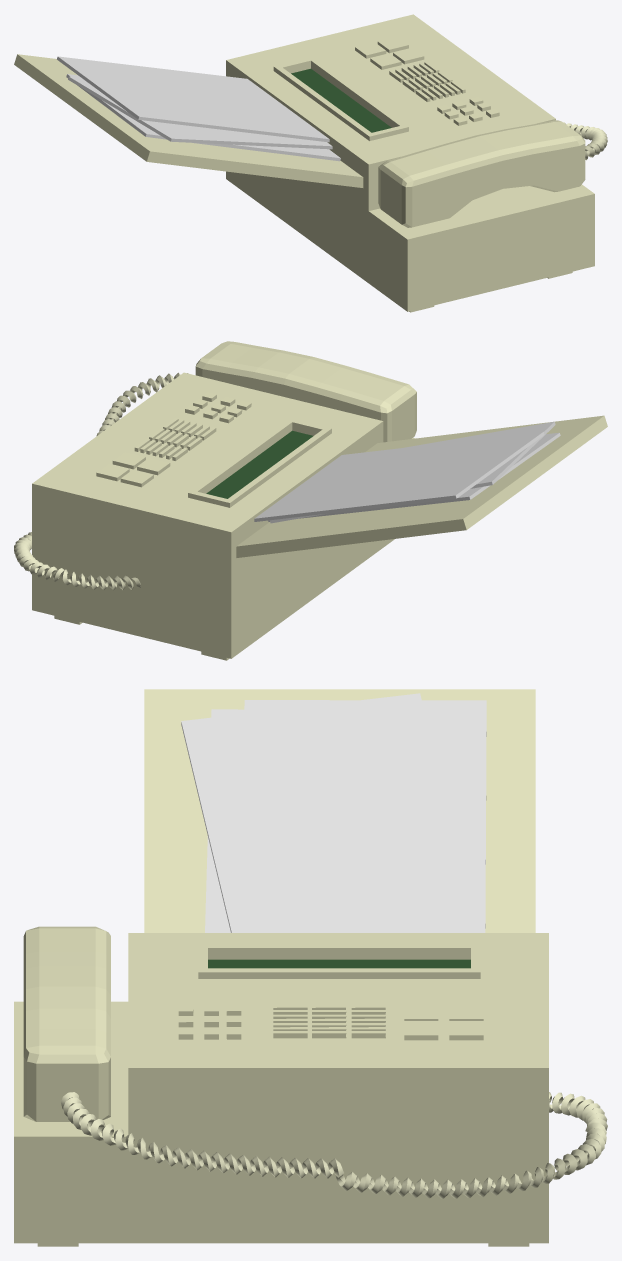
File: faxMachine.fbx
3 views of the same model, one above another, from view 1: azimuth 30°, elevation 25°; view 2: azimuth 150°, elevation 25°; view 3: azimuth 270°, elevation 25° (orthographic). The views are drawn at different scales.
Parts seen in each view (by area): view 1: ref76; view 2: ref76; view 3: ref76.
Boxes of the visible parts, <box> form: ref76: <box>14,14,607,312</box>; ref76: <box>14,341,607,660</box>; ref76: <box>14,689,607,1246</box>.
Size of the model in its own units: 94.67 by 38.23 by 72.1.
